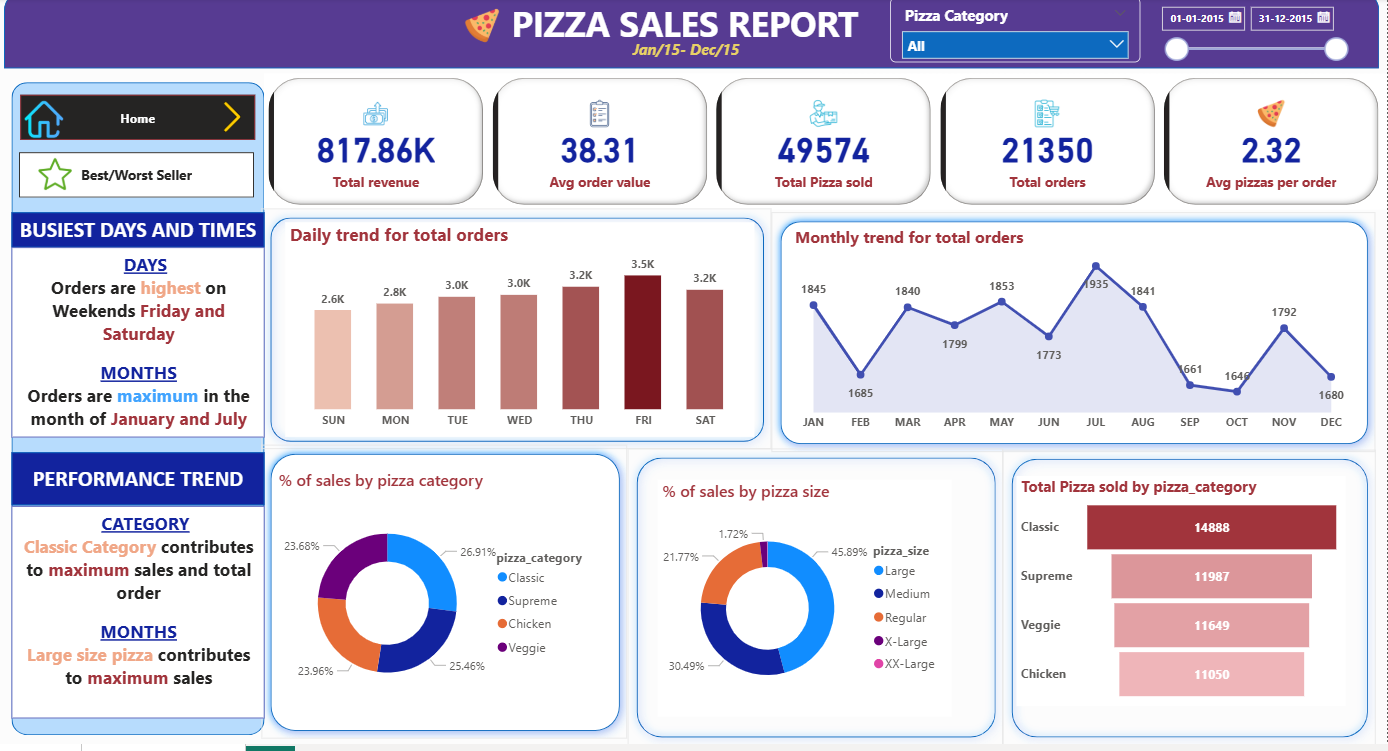

Layout of this report page (visuals, bound fields, positions):
{"tool":"powerbi","page":{"name":"Home","canvas":[1500,820],"ordinal":0},"visuals":[{"type":"shape","box":[13.2,104.4,273.5,705.9],"z":0},{"type":"cardVisual","fields":{"Data":["pizza_sales.Total revenue","pizza_sales.Avg order value","pizza_sales.Pizza sold","pizza_sales.Total orders","pizza_sales.Avg pizzas per order"]},"box":[286.8,94.1,1213.2,147.1],"z":1000},{"type":"shape","box":[5.9,5.9,1486.8,83.8],"z":2000},{"type":"textbox","box":[522.1,10.3,439.7,64.7],"z":3000},{"type":"shape","box":[283.8,241.2,551.5,260.3],"z":4000},{"type":"columnChart","title":"Daily trend for total orders ","fields":{"Category":["pizza_sales.Order day"],"Y":["pizza_sales.Total orders"]},"box":[308.8,255.9,507.4,232.4],"z":5000},{"type":"shape","box":[835.3,244.1,652.9,258.8],"z":6000},{"type":"areaChart","title":"Monthly trend for total orders","fields":{"Category":["pizza_sales.Order Month"],"Y":["pizza_sales.Total orders"]},"box":[855.9,258.8,610.3,230.9],"z":7000},{"type":"shape","box":[283.8,495.6,395.6,317.6],"z":8000},{"type":"donutChart","title":"%  of sales by pizza category ","fields":{"Category":["pizza_sales.pizza_category"],"Y":["pizza_sales.Total revenue"]},"box":[297.1,522.1,354.4,269.1],"z":9000},{"type":"donutChart","title":"%  of sales by pizza size","fields":{"Y":["pizza_sales.Total revenue"],"Category":["pizza_sales.pizza_size"]},"box":[711.8,533.8,317.6,255.9],"z":10000},{"type":"shape","box":[1085.3,501.5,402.9,319.1],"z":11000},{"type":"shape","box":[679.4,500,405.9,320.6],"z":12000},{"type":"funnel","fields":{"Category":["pizza_sales.pizza_category"],"Y":["pizza_sales.Total Pizza sold"]},"box":[1100,529.4,355.9,248.5],"z":13000},{"type":"shape","box":[13.2,244.1,273.5,38.2],"z":14000},{"type":"textbox","box":[13.2,282.4,273.5,205.9],"z":15000},{"type":"shape","box":[13.2,504.4,273.5,57.4],"z":16000},{"type":"textbox","box":[13.2,561.8,273.5,229.4],"z":17000},{"type":"slicer","fields":{"Values":["pizza_sales.pizza_category"]},"box":[963.2,11.8,270.6,70.6],"z":18000},{"type":"slicer","fields":{"Values":["pizza_sales.order_date"]},"box":[1244.1,11.8,222.1,70.6],"z":19000},{"type":"pageNavigator","box":[23.5,117.6,254.4,50],"z":20000},{"type":"bookmarkNavigator","box":[0,0,600,50],"z":21000},{"type":"pageNavigator","box":[22.1,179.4,254.4,50],"z":22000},{"type":"image","box":[226.5,120.6,50,42.6],"z":22001},{"type":"image","box":[38.2,179.4,45.6,47.1],"z":22002},{"type":"image","box":[23.5,111.8,51.5,63.2],"z":22003},{"type":"image","box":[498.5,17.6,47.1,50],"z":22004},{"type":"textbox","box":[679.4,52.9,214.7,51.5],"z":22005}]}

Visuals, with their boxes in screenshot pixels (x1, y1, x2, y2), scaled from the page's 1500x820 canvas onto the 1388x751 screenshot:
shape: (12,96,265,742)
cardVisual - pizza_sales.Total revenue x pizza_sales.Avg order value: (265,86,1387,221)
shape: (5,5,1381,82)
textbox: (483,9,890,69)
shape: (263,221,773,459)
"Daily trend for total orders " columnChart: (286,234,755,447)
shape: (773,224,1377,461)
"Monthly trend for total orders" areaChart: (792,237,1357,448)
shape: (263,454,629,745)
"%  of sales by pizza category " donutChart: (275,478,603,725)
"%  of sales by pizza size" donutChart: (659,489,953,723)
shape: (1004,459,1377,750)
shape: (629,458,1004,750)
funnel - pizza_sales.pizza_category x pizza_sales.Total Pizza sold: (1018,485,1347,712)
shape: (12,224,265,259)
textbox: (12,259,265,447)
shape: (12,462,265,515)
textbox: (12,515,265,725)
slicer - pizza_sales.pizza_category: (891,11,1142,75)
slicer - pizza_sales.order_date: (1151,11,1357,75)
pageNavigator: (22,108,257,153)
bookmarkNavigator: (0,0,555,46)
pageNavigator: (20,164,256,210)
image: (210,110,256,149)
image: (35,164,78,207)
image: (22,102,69,160)
image: (461,16,505,62)
textbox: (629,48,827,96)
